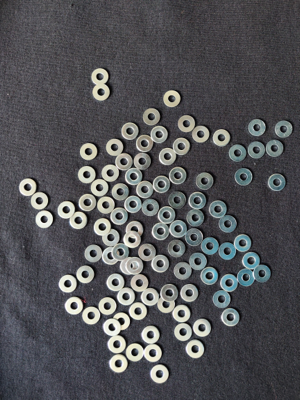circle: (267, 173, 288, 193), (186, 340, 205, 360), (150, 365, 170, 384), (109, 355, 129, 374), (193, 319, 213, 338), (275, 120, 295, 139), (79, 142, 99, 161), (192, 125, 211, 145), (162, 89, 182, 108), (90, 67, 110, 86), (174, 323, 193, 342), (76, 266, 95, 285), (234, 167, 253, 186), (248, 118, 267, 137), (173, 138, 192, 157), (143, 108, 162, 127), (221, 309, 241, 327), (237, 270, 257, 288), (69, 211, 87, 231), (144, 345, 163, 363), (107, 336, 126, 354), (142, 326, 161, 344), (113, 313, 132, 331), (102, 319, 121, 337), (98, 298, 117, 316), (65, 297, 84, 315), (189, 253, 208, 271), (101, 229, 120, 247), (18, 179, 37, 197), (78, 194, 97, 212), (168, 192, 187, 210), (77, 166, 96, 184), (169, 167, 188, 185), (196, 172, 215, 190), (266, 140, 285, 158), (158, 148, 177, 166), (127, 344, 144, 364), (157, 296, 175, 314), (117, 288, 135, 306), (181, 284, 199, 302), (214, 291, 232, 309), (59, 275, 77, 293), (125, 257, 143, 275), (174, 263, 192, 281), (254, 266, 272, 284), (201, 237, 219, 255), (168, 240, 186, 258), (139, 244, 157, 262), (35, 211, 53, 229), (31, 192, 49, 210), (126, 221, 144, 239), (234, 235, 252, 253), (209, 201, 227, 219), (189, 192, 207, 210), (124, 196, 142, 214), (248, 141, 266, 159), (229, 145, 247, 163), (125, 168, 143, 186), (115, 153, 133, 171), (150, 126, 168, 144), (122, 122, 140, 140), (93, 84, 111, 102), (214, 129, 231, 148), (83, 306, 100, 325), (130, 302, 147, 321), (173, 306, 192, 323), (141, 289, 160, 306), (131, 275, 150, 292), (219, 216, 238, 233), (90, 180, 109, 197), (101, 165, 120, 182), (179, 115, 196, 134), (121, 257, 138, 275), (85, 245, 102, 263), (243, 253, 261, 270), (219, 243, 236, 261), (94, 219, 112, 236), (58, 201, 75, 219), (186, 229, 203, 247), (171, 220, 188, 238), (152, 224, 170, 241), (158, 207, 176, 224), (98, 197, 115, 215), (186, 211, 205, 227), (136, 182, 155, 198), (107, 138, 123, 157), (108, 275, 125, 292), (161, 285, 178, 302), (202, 268, 219, 285), (221, 275, 238, 292), (124, 232, 141, 249), (111, 208, 128, 225), (112, 184, 129, 201), (135, 154, 152, 171), (103, 248, 119, 266), (153, 177, 171, 193), (113, 244, 129, 261), (153, 256, 169, 273), (142, 200, 159, 216), (137, 135, 153, 152)
